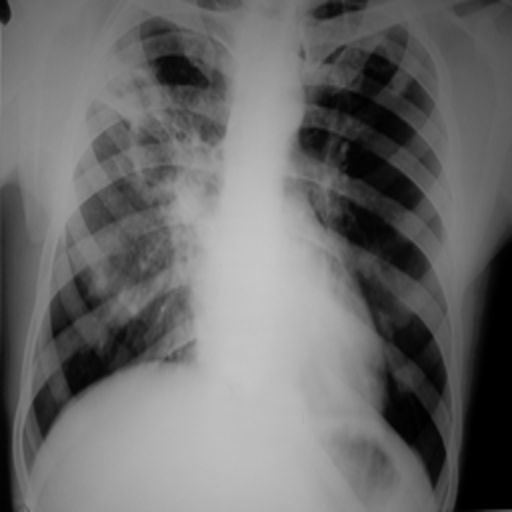TB: (96, 42, 206, 231)
